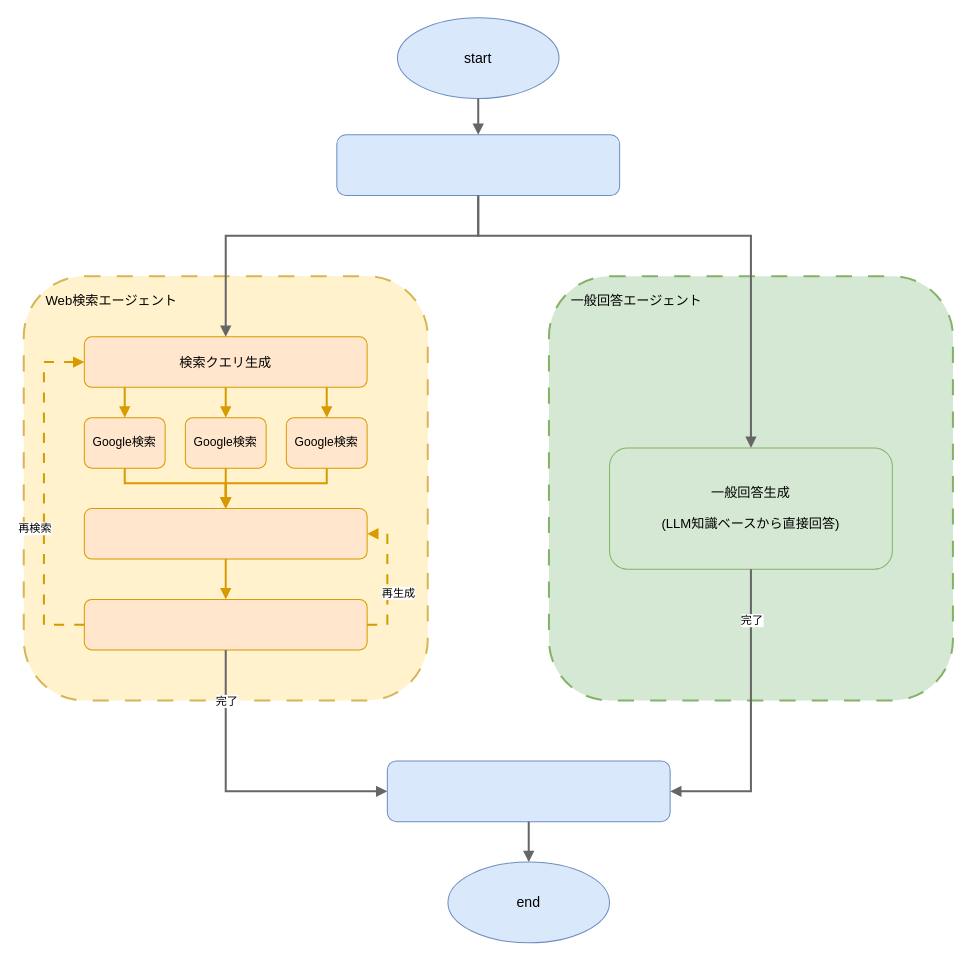
Some shapes in this 971 by 961 pixel diagram are drawn without their labels. The shapes that lost their labels are listed below. From the top down, each one's centre as x and y in pixels, then its label:
(x=478, y=164): タスク計画 (plan_tasks)
(x=225, y=533): タスク結果生成
(x=225, y=624): 結果評価
(x=528, y=791): generate_final_answer (最終回答統合)
